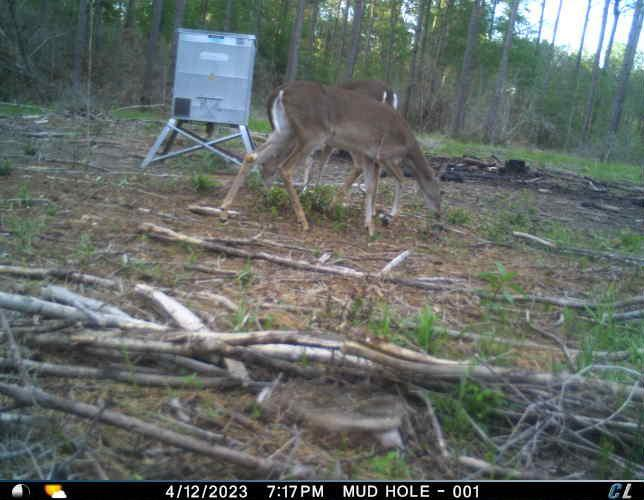Deer: (216, 77, 452, 242), (338, 72, 405, 115)
